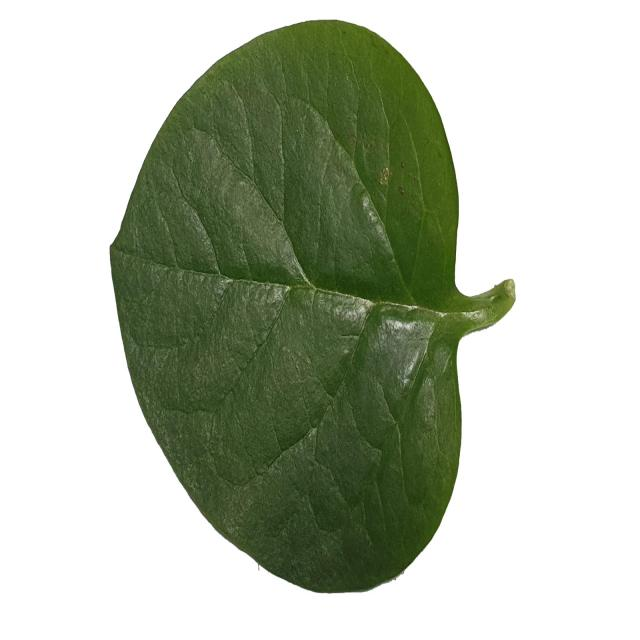Medicinal-Basale: (109, 17, 518, 596)
